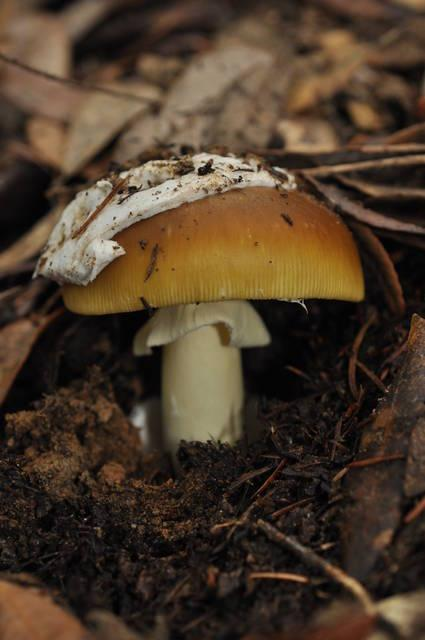Edible Mushroom: (32, 149, 366, 466)
